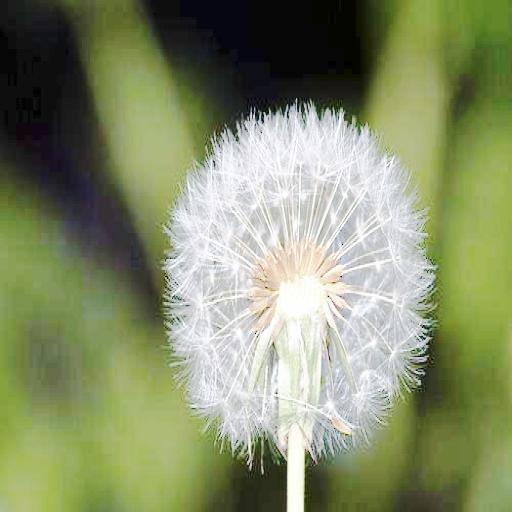dandelion: (168, 103, 428, 452)
